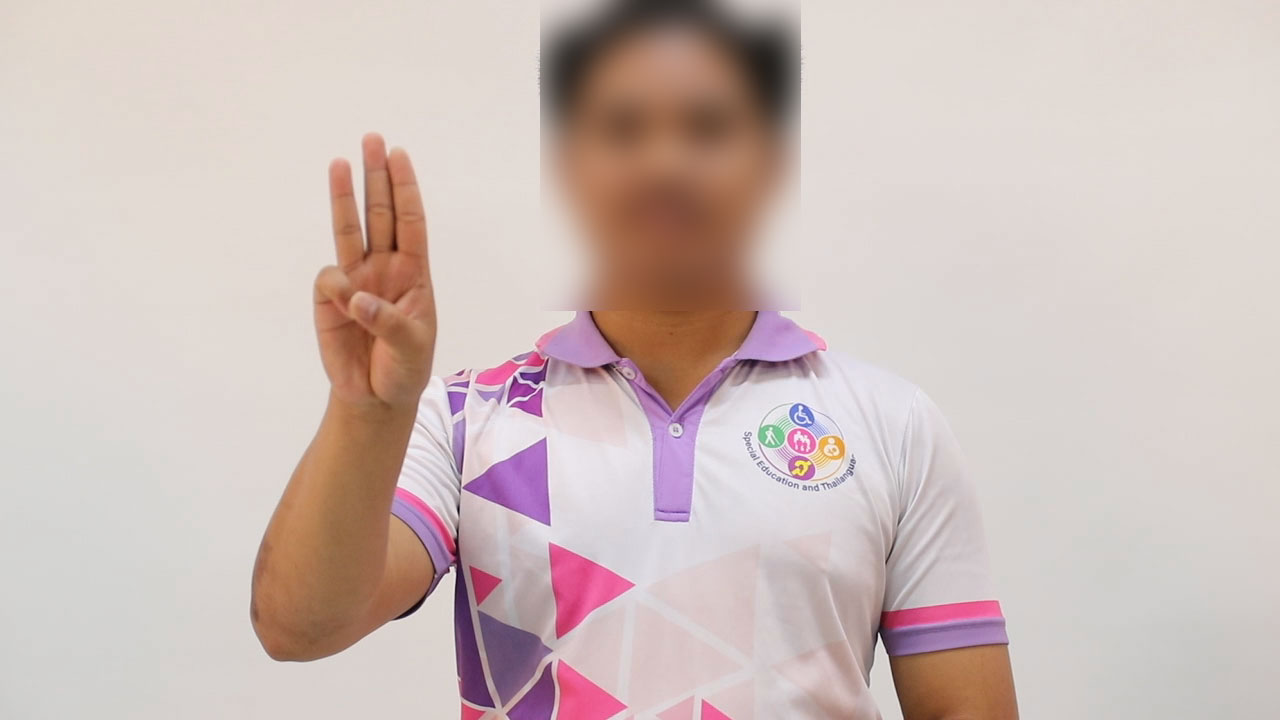wor: (300, 125, 441, 421)
